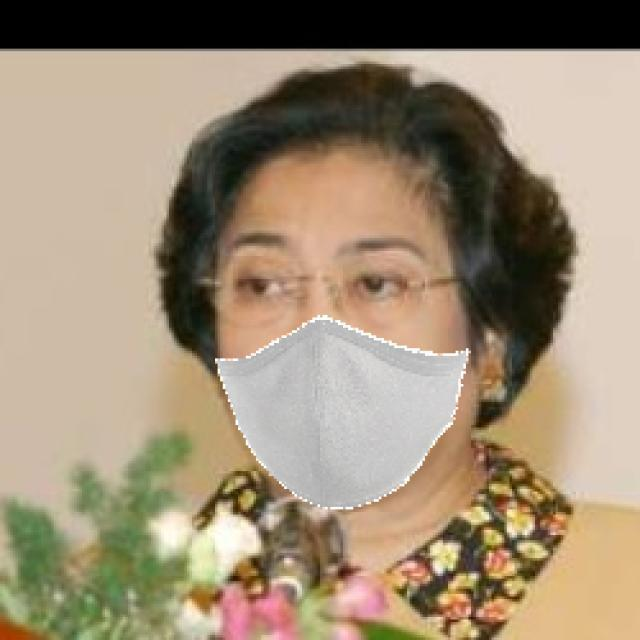cloth: (209, 123, 486, 510)
